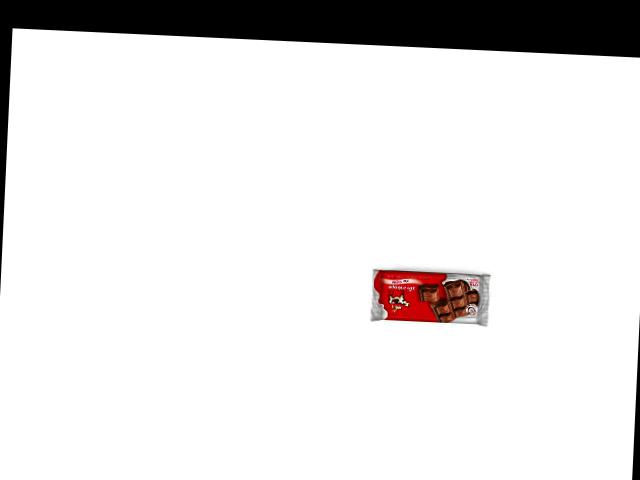chocolate: (369, 268, 494, 327)
